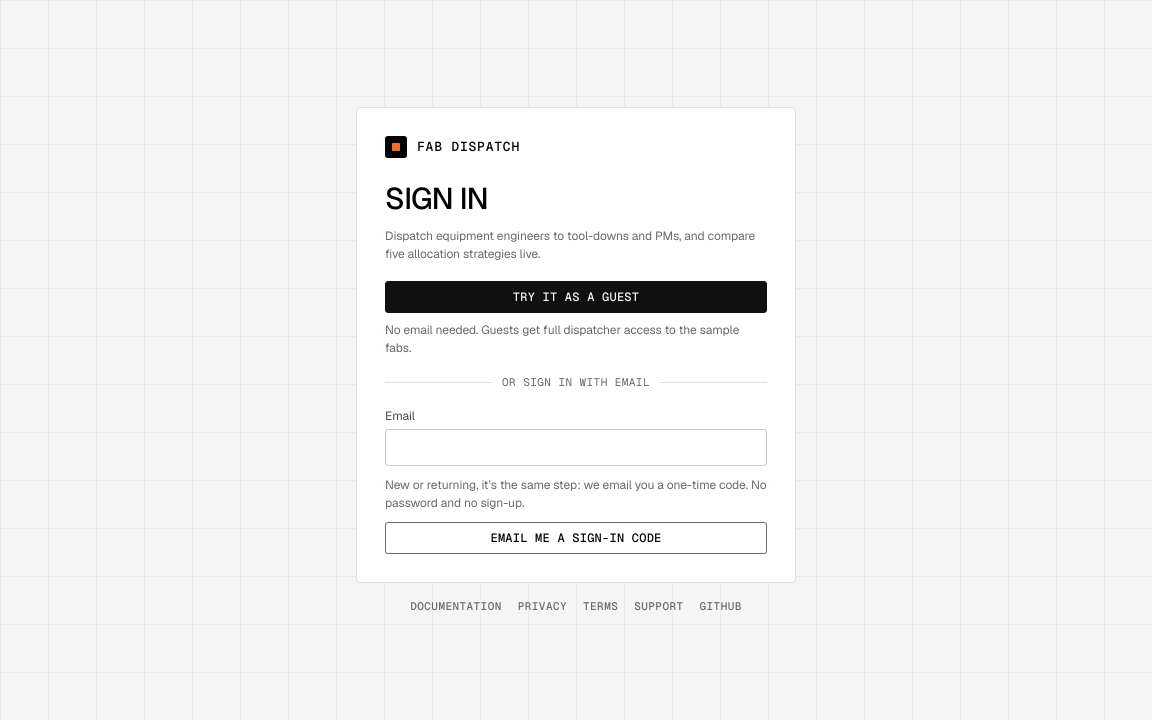
Test: Supabase sign-in › shows a failure to send the code as an error, not a crash
Type "a@b.co" into the field labelled "Email" at [576, 448], box [385,429,767,466]
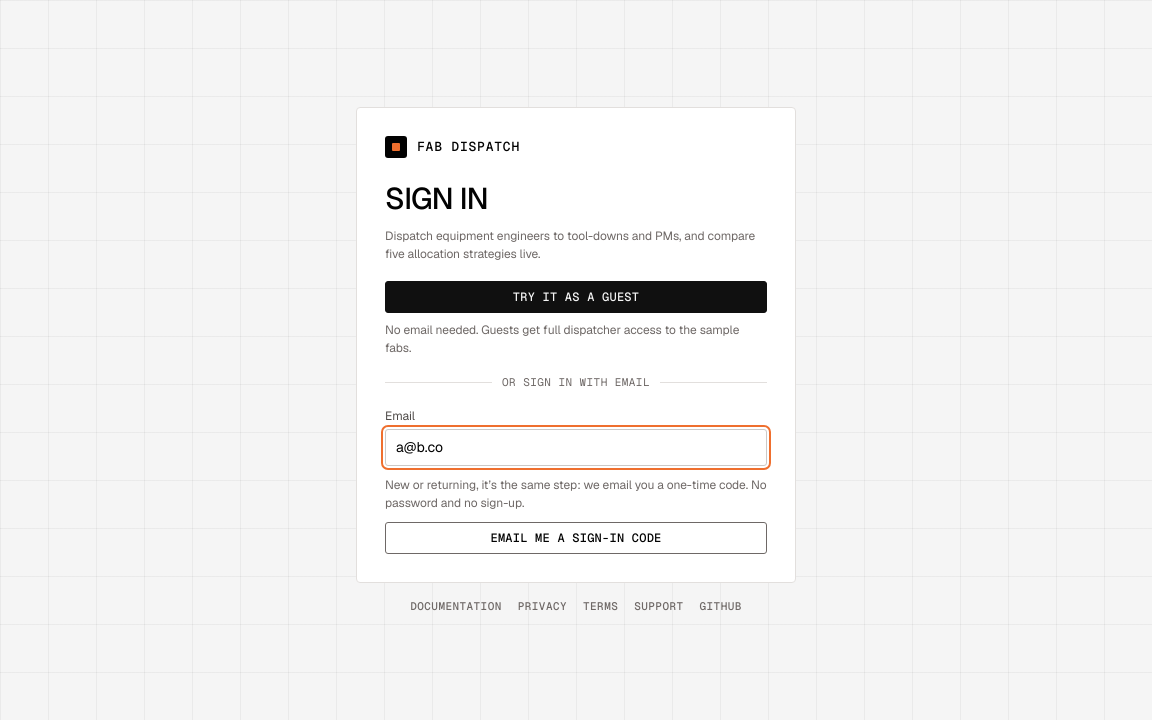
Click the button "Email me a sign-in code" at [576, 538], box [385,522,767,554]
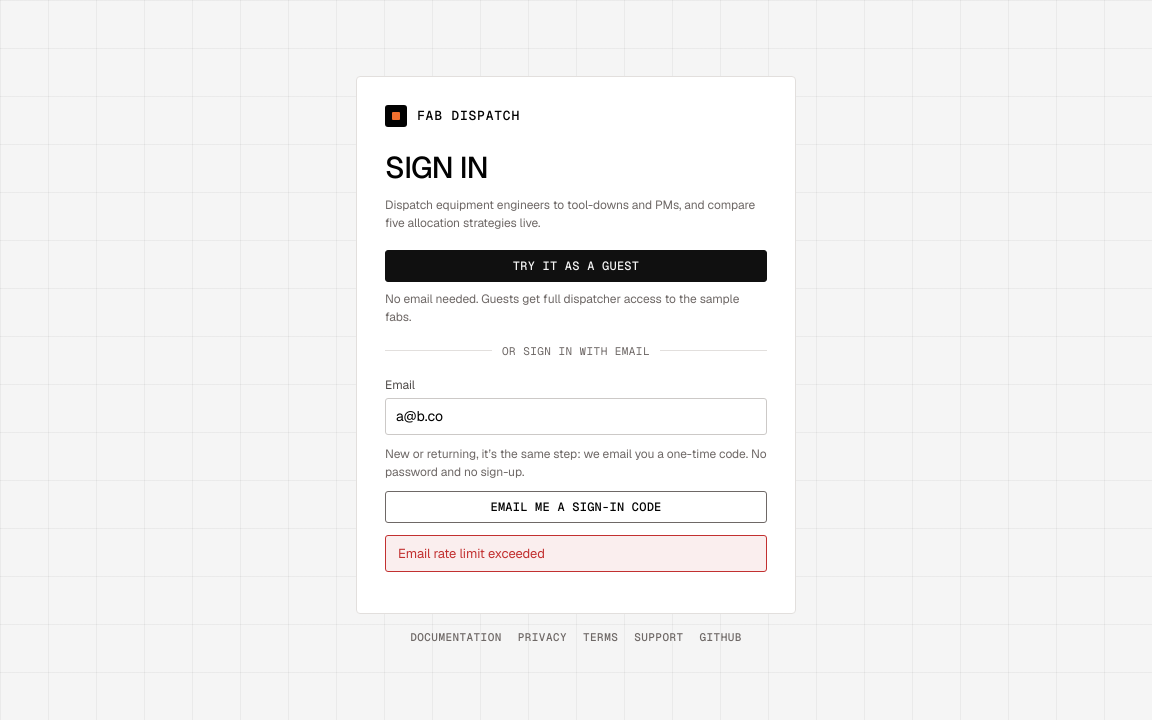
Result: the message reads "Email rate limit exceeded" at [398,545,545,562]
